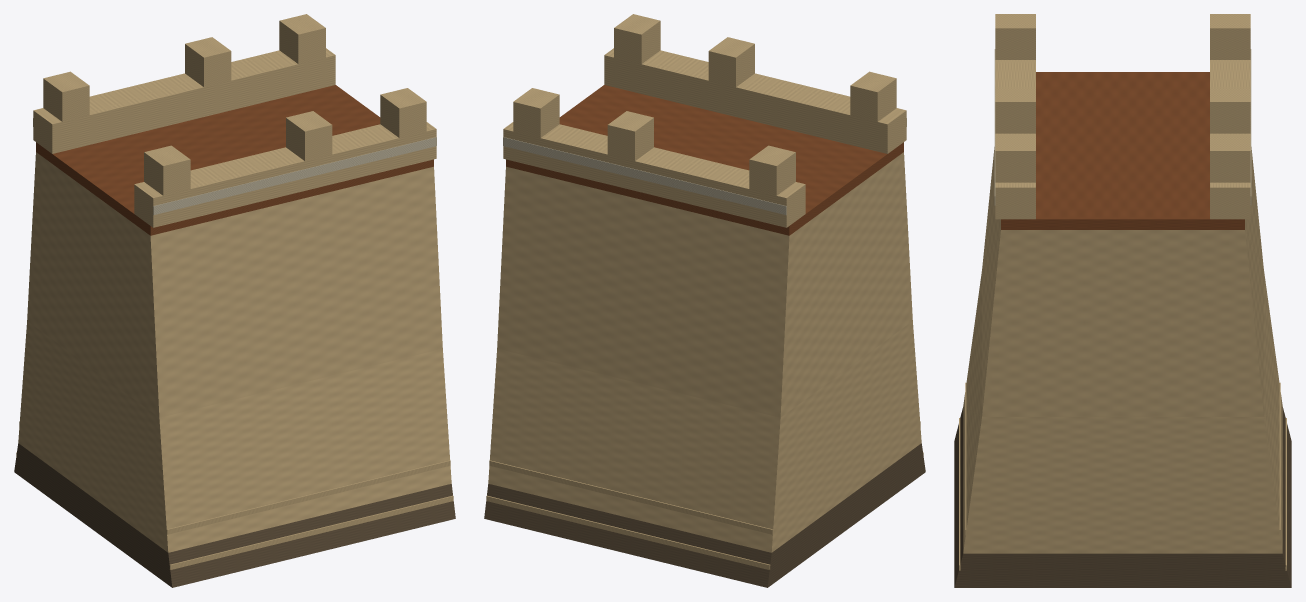
File: Berber_Wall_Age3_damaged_6m.fbx
3 renders of one model, left to right at view 1: azimuth 30°, elevation 25°; view 2: azimuth 150°, elevation 25°; view 3: azimuth 270°, elevation 25°, orthographic. The views are drawn at different scales.
Visible parts, largest first — view 1: damaged_6m_rammed_curtain_upper, damaged_6m_rammed_curtain_lower, damaged_6m_walk_deck, damaged_6m_battered_stone_foot, damaged_6m_parapet.001, damaged_6m_parapet, damaged_6m_owner_painted_band, damaged_6m_merlon.003, damaged_6m_merlon.002, damaged_6m_merlon.001, damaged_6m_merlon.005, damaged_6m_merlon (+4 smaller); view 2: damaged_6m_rammed_curtain_upper, damaged_6m_rammed_curtain_lower, damaged_6m_walk_deck, damaged_6m_battered_stone_foot, damaged_6m_parapet, damaged_6m_parapet.001, damaged_6m_owner_painted_band.001, damaged_6m_merlon, damaged_6m_merlon.002, damaged_6m_merlon.004, damaged_6m_merlon.005, damaged_6m_merlon.001 (+3 smaller); view 3: damaged_6m_rammed_curtain_upper, damaged_6m_rammed_curtain_lower, damaged_6m_walk_deck, damaged_6m_battered_stone_foot, damaged_6m_parapet, damaged_6m_parapet.001, damaged_6m_merlon.004, damaged_6m_merlon.005, damaged_6m_merlon.001, damaged_6m_merlon.002, damaged_6m_merlon, damaged_6m_merlon.003.
Boxes of the visible parts, bbox=[...] form: damaged_6m_rammed_curtain_upper: bbox=[27, 152, 442, 417]; damaged_6m_rammed_curtain_lower: bbox=[18, 321, 451, 552]; damaged_6m_walk_deck: bbox=[36, 85, 433, 235]; damaged_6m_battered_stone_foot: bbox=[14, 443, 455, 587]; damaged_6m_parapet.001: bbox=[33, 48, 335, 153]; damaged_6m_parapet: bbox=[134, 122, 436, 227]; damaged_6m_owner_painted_band: bbox=[153, 137, 436, 215]; damaged_6m_merlon.003: bbox=[43, 71, 89, 121]; damaged_6m_merlon.002: bbox=[380, 88, 426, 137]; damaged_6m_merlon.001: bbox=[286, 111, 332, 160]; damaged_6m_merlon.005: bbox=[279, 14, 325, 64]; damaged_6m_merlon: bbox=[144, 145, 190, 195]; damaged_6m_rammed_curtain_upper: bbox=[497, 152, 912, 417]; damaged_6m_rammed_curtain_lower: bbox=[488, 321, 921, 552]; damaged_6m_walk_deck: bbox=[506, 85, 903, 235]; damaged_6m_battered_stone_foot: bbox=[484, 443, 925, 587]; damaged_6m_parapet: bbox=[604, 48, 906, 153]; damaged_6m_parapet.001: bbox=[503, 122, 805, 227]; damaged_6m_owner_painted_band.001: bbox=[503, 137, 786, 215]; damaged_6m_merlon: bbox=[850, 71, 896, 121]; damaged_6m_merlon.002: bbox=[614, 14, 660, 64]; damaged_6m_merlon.004: bbox=[607, 111, 653, 160]; damaged_6m_merlon.005: bbox=[513, 88, 559, 137]; damaged_6m_merlon.001: bbox=[708, 37, 754, 87]; damaged_6m_rammed_curtain_upper: bbox=[982, 147, 1263, 416]; damaged_6m_rammed_curtain_lower: bbox=[963, 271, 1282, 553]; damaged_6m_walk_deck: bbox=[1001, 72, 1244, 229]; damaged_6m_battered_stone_foot: bbox=[954, 407, 1291, 587]; damaged_6m_parapet: bbox=[995, 60, 1035, 219]; damaged_6m_parapet.001: bbox=[1210, 60, 1250, 219]; damaged_6m_merlon.004: bbox=[1210, 87, 1250, 133]; damaged_6m_merlon.005: bbox=[1210, 136, 1250, 182]; damaged_6m_merlon.001: bbox=[995, 87, 1035, 133]; damaged_6m_merlon.002: bbox=[995, 136, 1035, 182]; damaged_6m_merlon: bbox=[995, 14, 1035, 59]; damaged_6m_merlon.003: bbox=[1210, 14, 1250, 59].
Bounding box in the file's own units: 600 × 820 × 580.
Materials: 4 (4 with a texture image).
